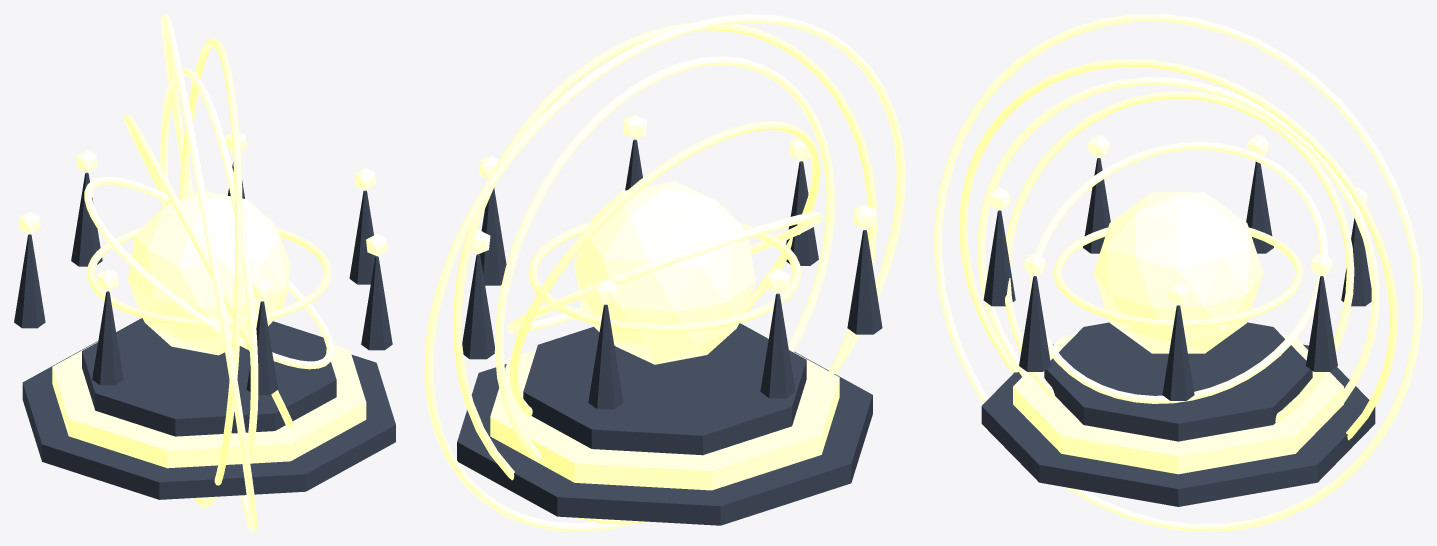
Rendered from gpu-blender-v5.glb.
The picture shows the model from 3 angles, left to right: view 1: azimuth 30°, elevation 25°; view 2: azimuth 150°, elevation 25°; view 3: azimuth 270°, elevation 25°; orthographic projection. The views are drawn at different scales.
Visible parts, largest first — view 1: Cylinder.002, Cylinder, SovereignCore_likeness-desk, Cylinder.001, Torus.005, Torus.004, Torus.003, Torus.001, Torus, Torus.002, Cone.003, Cone.006 (+4 smaller); view 2: Cylinder.002, SovereignCore_likeness-desk, Cylinder, Cylinder.001, Torus.005, Torus.003, Torus.004, Torus.002, Torus.001, Torus, Cone.002, Cone.003 (+4 smaller); view 3: SovereignCore_likeness-desk, Cylinder.002, Cylinder, Cylinder.001, Torus.005, Torus.004, Torus.003, Torus.002, Torus.001, Torus, Cone, Cone.001 (+5 smaller).
Part boxes in pixels (box(x1,y1,x2,y2)): Cylinder.002: box(82, 318, 336, 436); Cylinder: box(22, 341, 395, 499); SovereignCore_likeness-desk: box(127, 191, 290, 355); Cylinder.001: box(52, 325, 366, 468); Torus.005: box(161, 14, 257, 531); Torus.004: box(179, 38, 242, 507); Torus.003: box(160, 68, 258, 459); Torus.001: box(84, 176, 334, 369); Torus: box(87, 227, 331, 326); Torus.002: box(124, 114, 293, 426); Cone.003: box(14, 234, 45, 328); Cone.006: box(361, 256, 392, 350); Cylinder.002: box(523, 323, 806, 455); SovereignCore_likeness-desk: box(574, 181, 755, 364); Cylinder: box(457, 351, 872, 525); Cylinder.001: box(490, 330, 839, 490); Torus.005: box(424, 14, 905, 531); Torus.003: box(494, 56, 835, 461); Torus.004: box(453, 22, 876, 524); Torus.002: box(509, 121, 820, 416); Torus.001: box(507, 212, 822, 333); Torus: box(528, 222, 801, 333); Cone.002: box(588, 304, 623, 409); Cone.003: box(760, 293, 795, 398); SovereignCore_likeness-desk: box(1093, 192, 1263, 353); Cylinder.002: box(1044, 322, 1312, 441); Cylinder: box(981, 344, 1375, 506); Cylinder.001: box(1013, 334, 1343, 474); Torus.005: box(934, 14, 1422, 531); Torus.004: box(959, 59, 1397, 440); Torus.003: box(977, 77, 1379, 424); Torus.002: box(1005, 91, 1354, 423); Torus.001: box(1029, 142, 1327, 403); Torus: box(1053, 227, 1303, 327); Cone: box(1162, 305, 1194, 400); Cone.001: box(1306, 276, 1337, 371).
Size of the model in its own units: 4.41 by 5.93 by 5.46.
